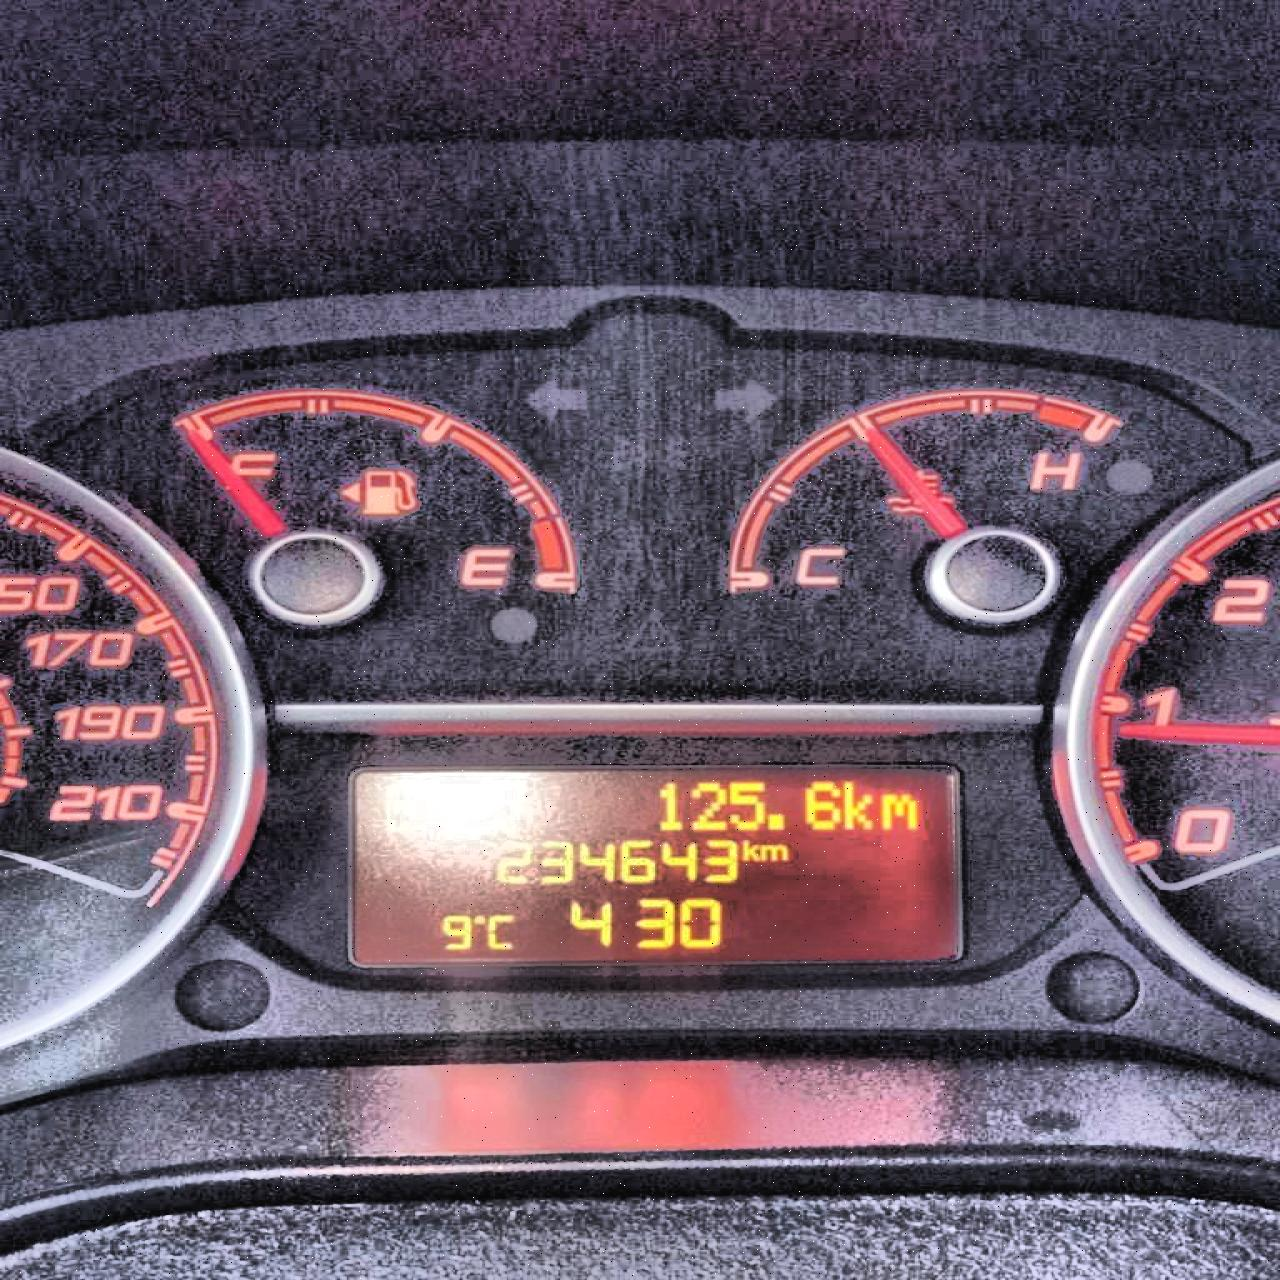-: (763, 811, 784, 831)
0: (679, 893, 723, 948)
1: (653, 777, 687, 833)
2: (688, 778, 727, 832), (496, 837, 532, 885)
3: (632, 893, 673, 952), (701, 836, 736, 884), (537, 838, 573, 884)
4: (568, 899, 610, 947), (659, 839, 696, 881), (580, 838, 613, 883)
5: (727, 777, 765, 832)
6: (799, 776, 840, 831), (618, 837, 655, 883)
9: (442, 913, 470, 948)
X: (878, 790, 919, 831), (842, 778, 871, 831), (486, 907, 517, 953), (758, 840, 789, 860), (740, 837, 758, 862)
odometer: (339, 756, 975, 980)
